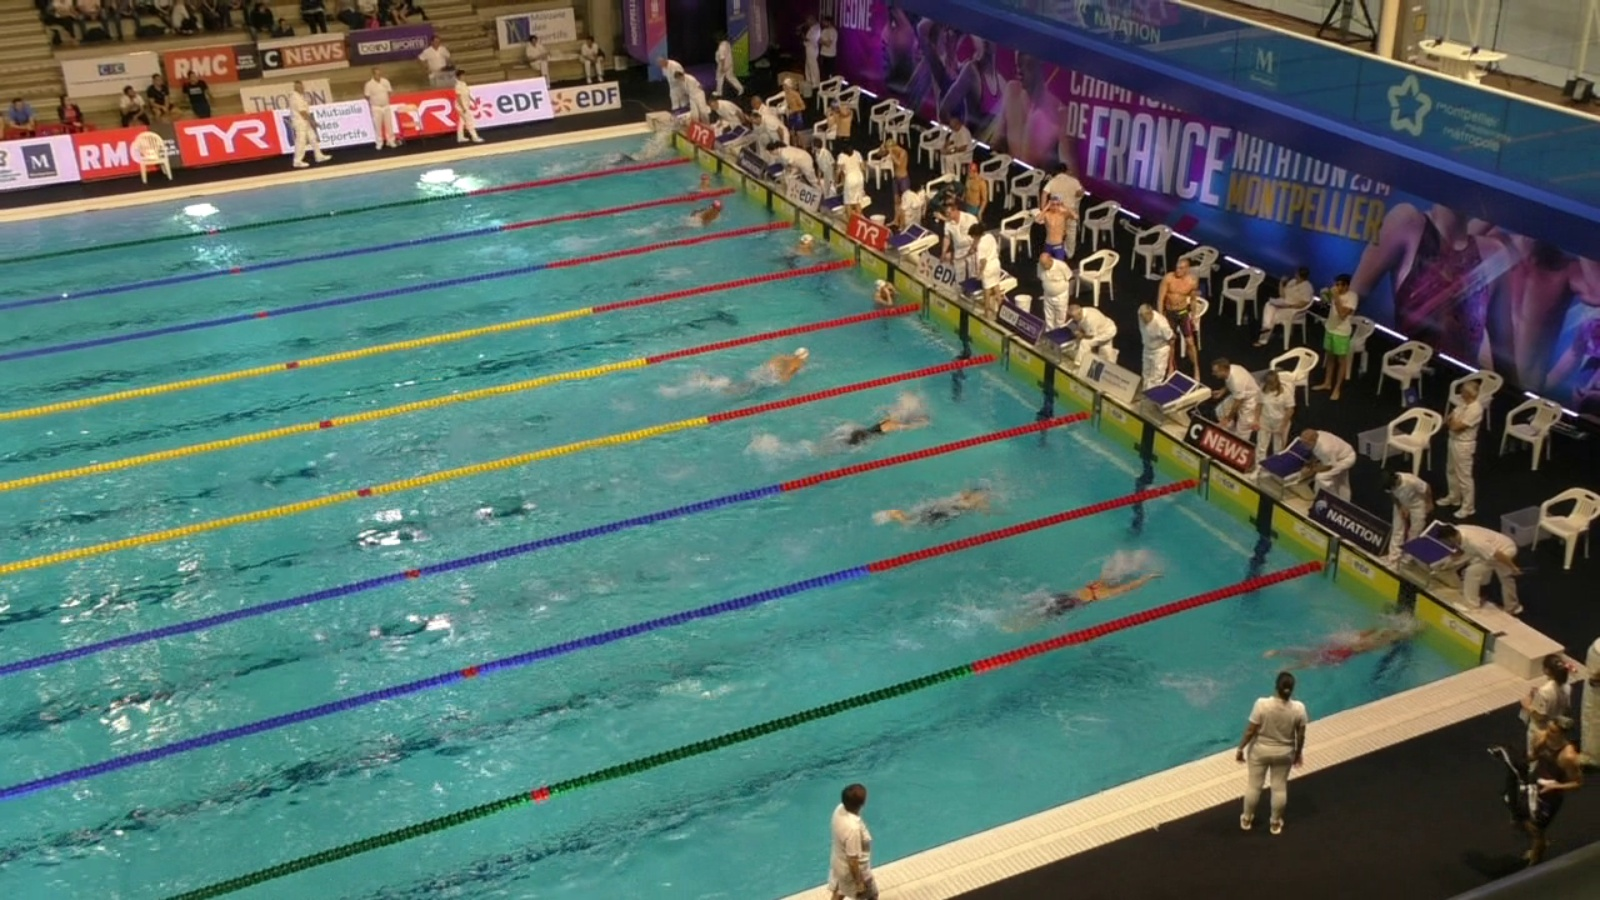swimmerwdd: (1010, 560, 1167, 633), (1267, 616, 1426, 687), (810, 399, 942, 459), (866, 484, 1005, 537), (685, 347, 813, 396), (638, 197, 730, 241), (767, 229, 837, 279), (597, 135, 684, 171), (862, 271, 911, 329), (690, 169, 721, 211)
